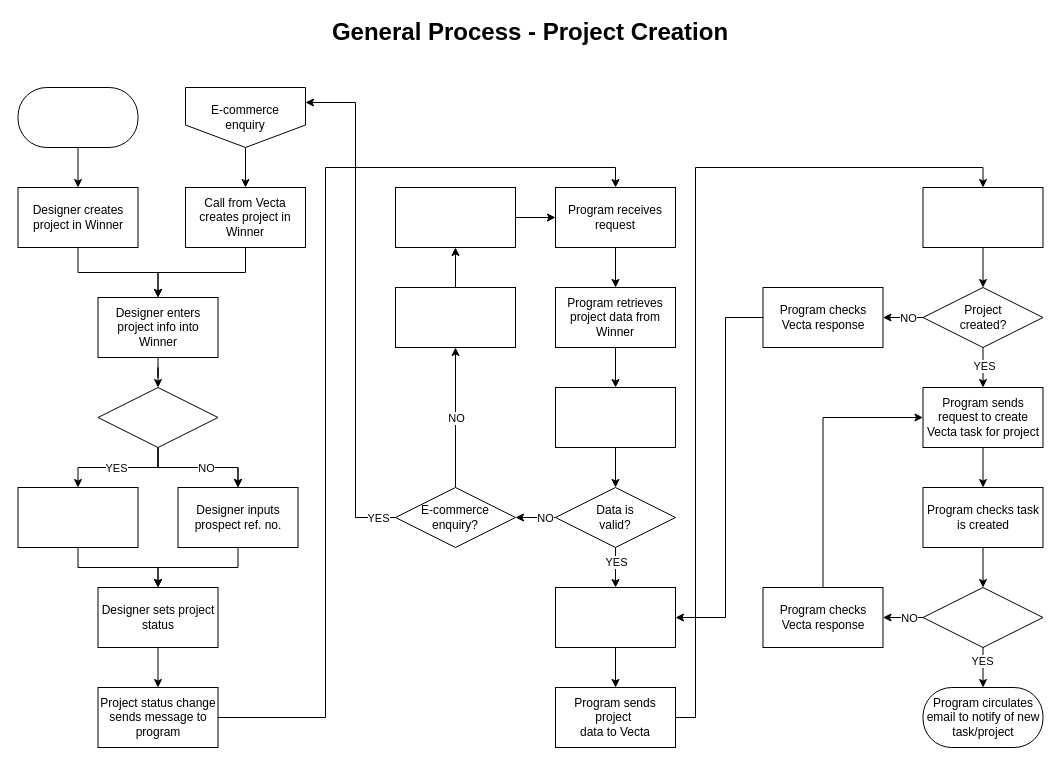
This 1060x765 diagram has some shape labels left out. Here are the shapes that lost their labels. From the top down, the box of each, then its label:
(17, 86, 138, 148): Design enquiry received
(394, 186, 516, 248): Designer updates data
(922, 186, 1043, 248): Program checks Vecta project is created
(394, 286, 516, 348): Program sends email to designer asking to check data
(97, 386, 218, 448): Existing customer?
(554, 386, 676, 448): Program validates data received
(17, 486, 138, 548): Designer inputs customer no.
(554, 586, 676, 648): Program parses & reformats data
(922, 586, 1043, 648): Task created?
